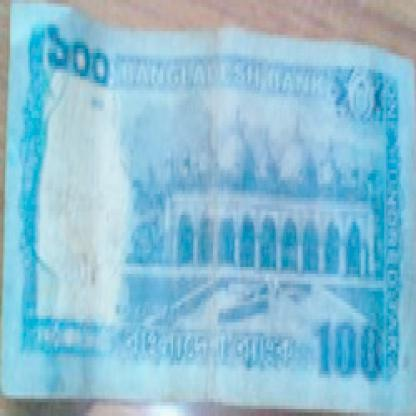one hundred taka: (310, 312, 388, 388), (42, 21, 110, 100)
